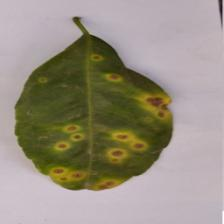canker: (27, 68, 176, 194)
